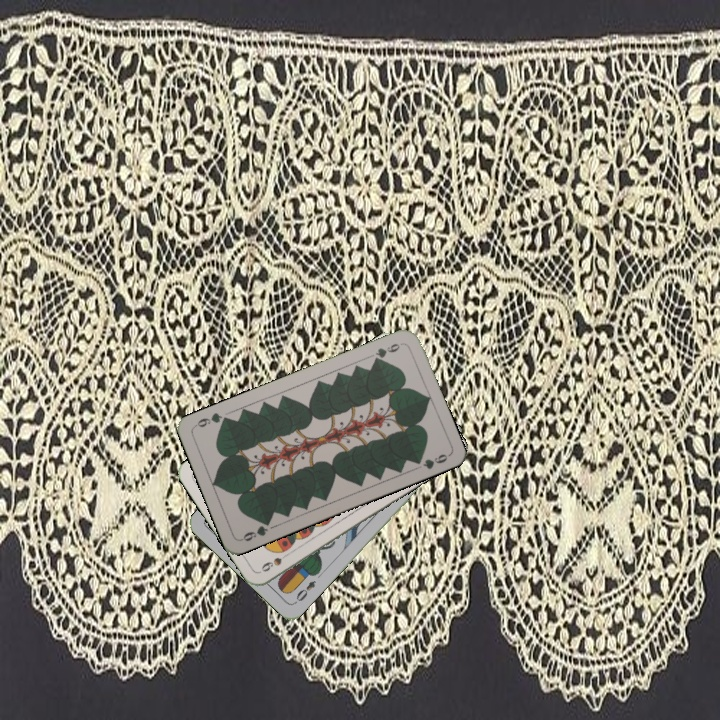EO: (290, 576, 318, 606)
G9: (237, 516, 273, 544), (369, 339, 405, 365)
S9: (257, 548, 293, 575)
